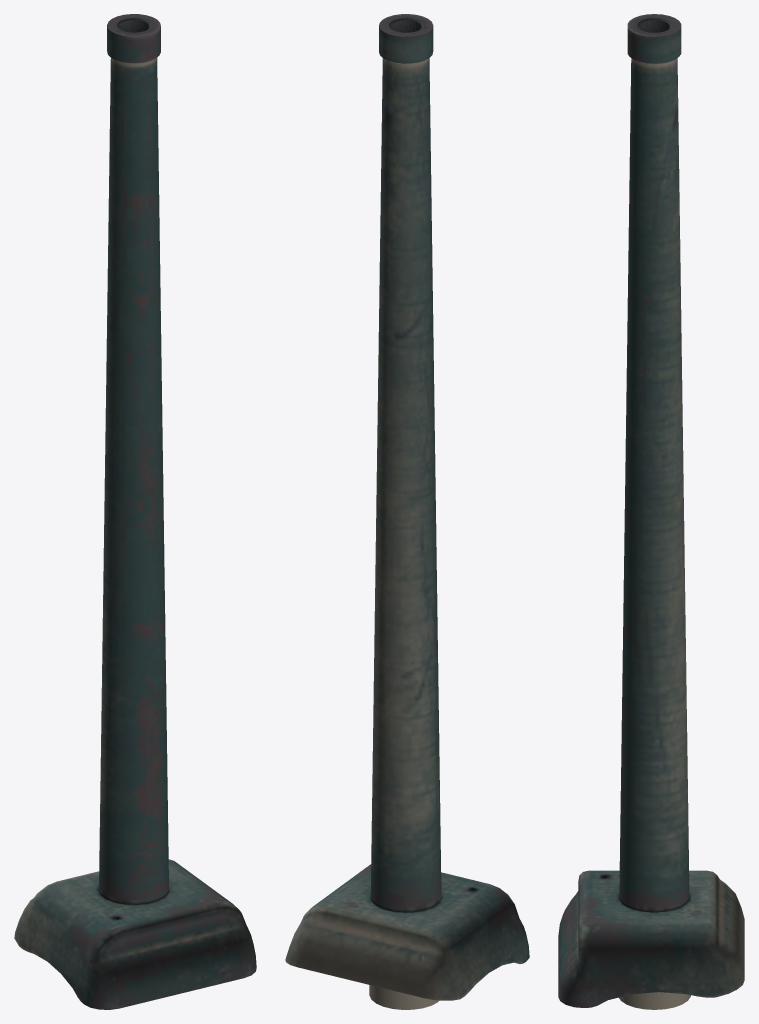
File: Gun_05.glb
3 renders of one model, left to right at view 1: azimuth 30°, elevation 25°; view 2: azimuth 150°, elevation 25°; view 3: azimuth 270°, elevation 25°, orthographic.
Visible parts, largest first — view 1: set_0_group_0; view 2: set_0_group_0; view 3: set_0_group_0.
Boxes of the visible parts, x1,y1,x2,y2 form: set_0_group_0: (14,14,256,1009); set_0_group_0: (285,14,529,1009); set_0_group_0: (558,14,744,1009).
Size of the model in its own units: 0.5592 by 3.04 by 0.5289.
Materials: 1 (1 with a texture image).
